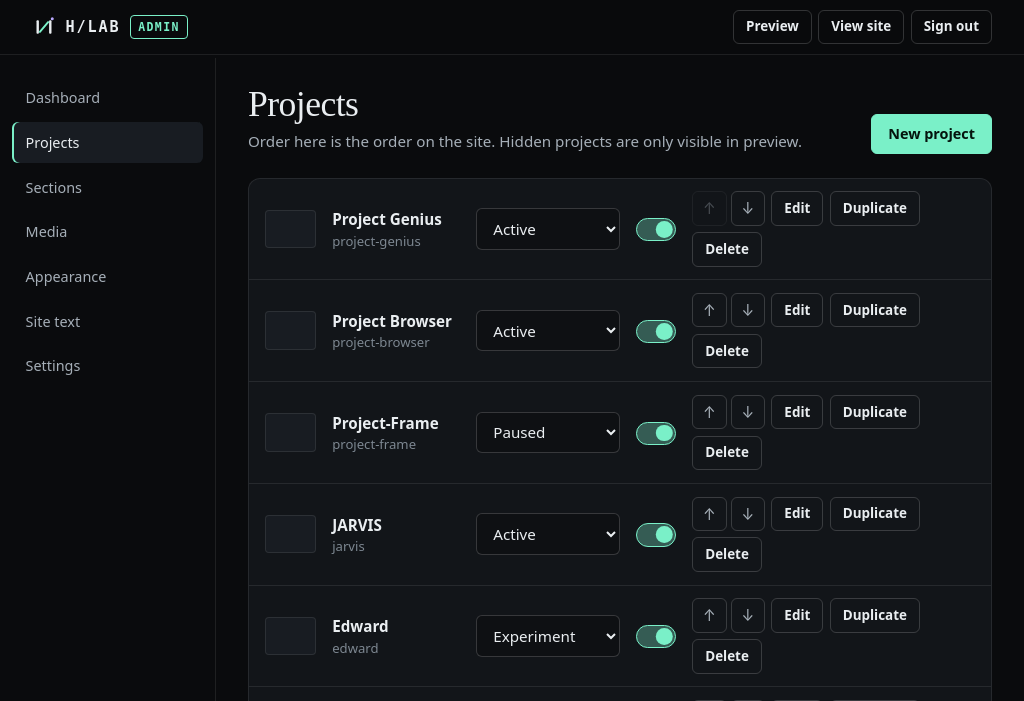
Test case: project manager list › does not report success for a failed reorder
The image size is (1024, 701).
Check: the heading "Projects" is shown, box [248,84,358,124]
Click the button named "Move Project Browser up": (709, 310) [692,293,727,328]
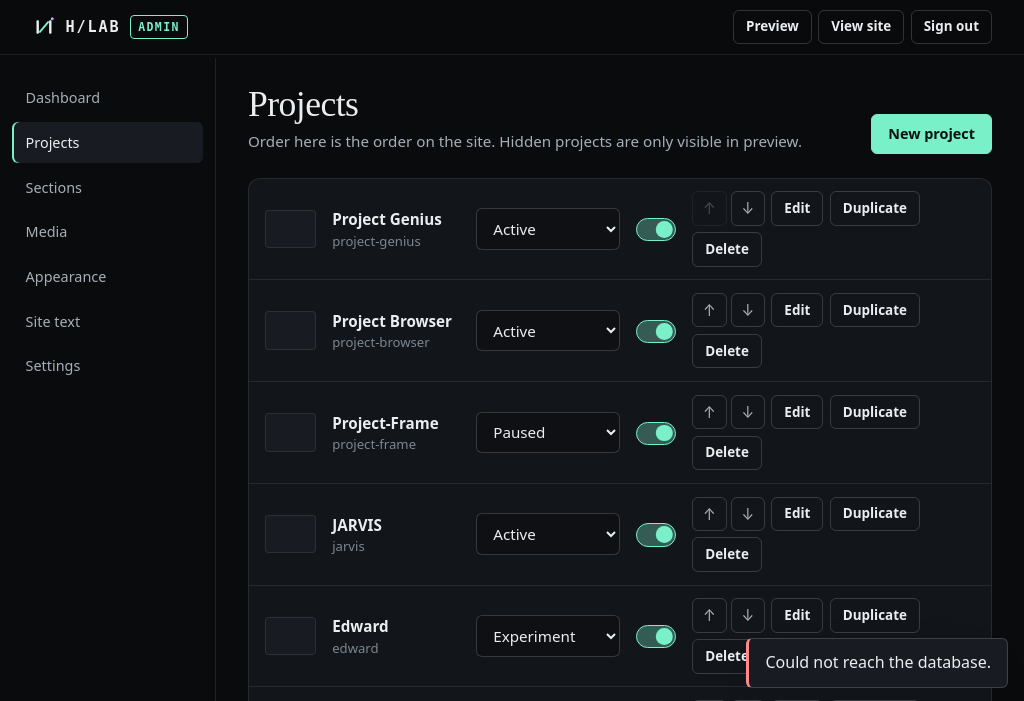
Check: the text "Could not reach the database." is shown, box [746,638,1008,688]
